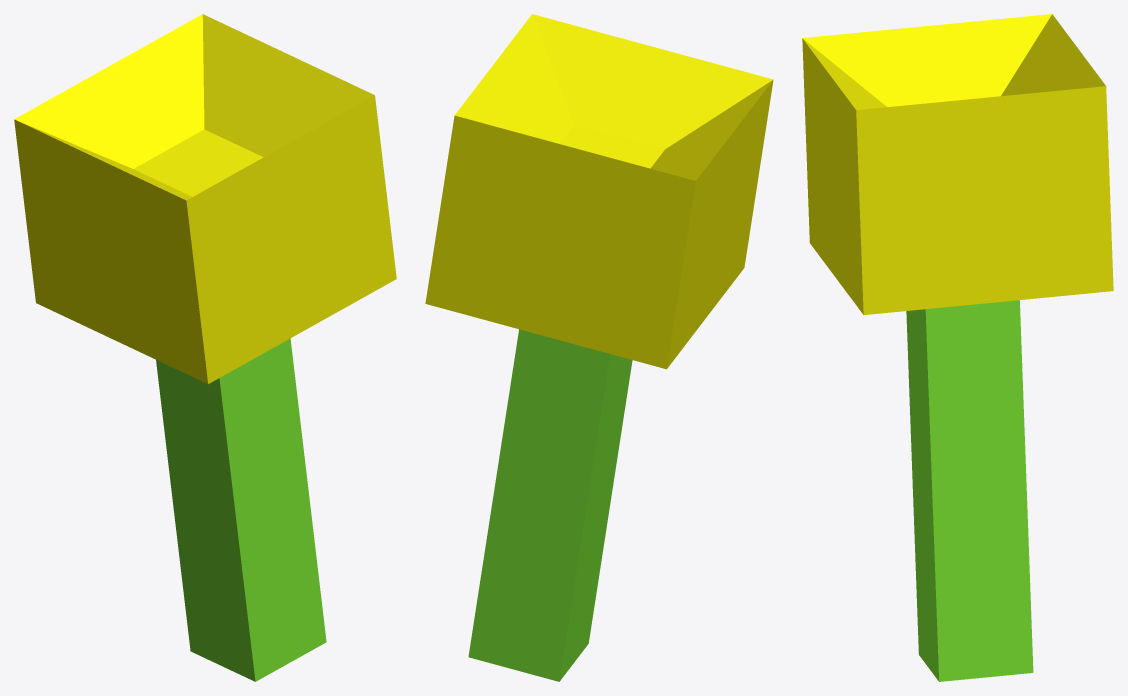
Rendered from tulip_yellow.fbx.
The picture shows the model from 3 angles, left to right: view 1: azimuth 30°, elevation 25°; view 2: azimuth 150°, elevation 25°; view 3: azimuth 270°, elevation 25°; orthographic projection.
Visible parts, largest first — view 1: Cube.078; view 2: Cube.078; view 3: Cube.078.
Part boxes in pixels (box(x1,y1,x2,y2)): Cube.078: box(14, 14, 396, 681); Cube.078: box(425, 14, 773, 681); Cube.078: box(802, 14, 1113, 681).
Bounding box in the file's own units: 25.65 × 50.12 × 24.02.
1 material, 1 textured.
